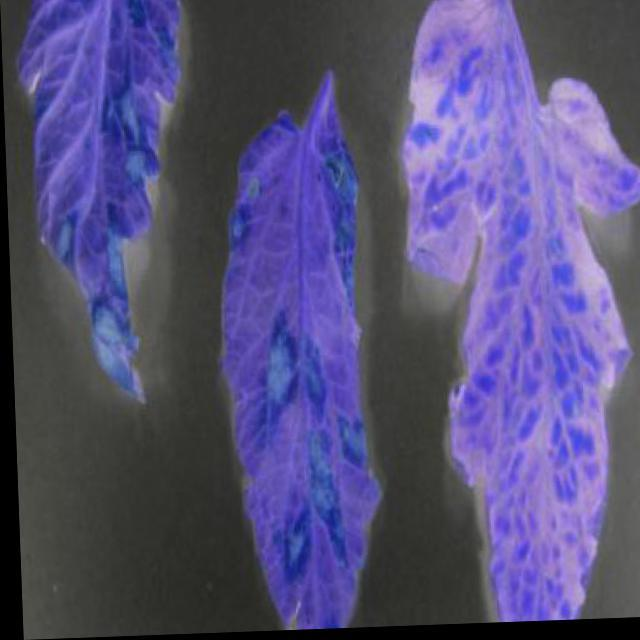Tomato mold leaf: (391, 0, 639, 628), (207, 98, 390, 632), (6, 0, 191, 391)
